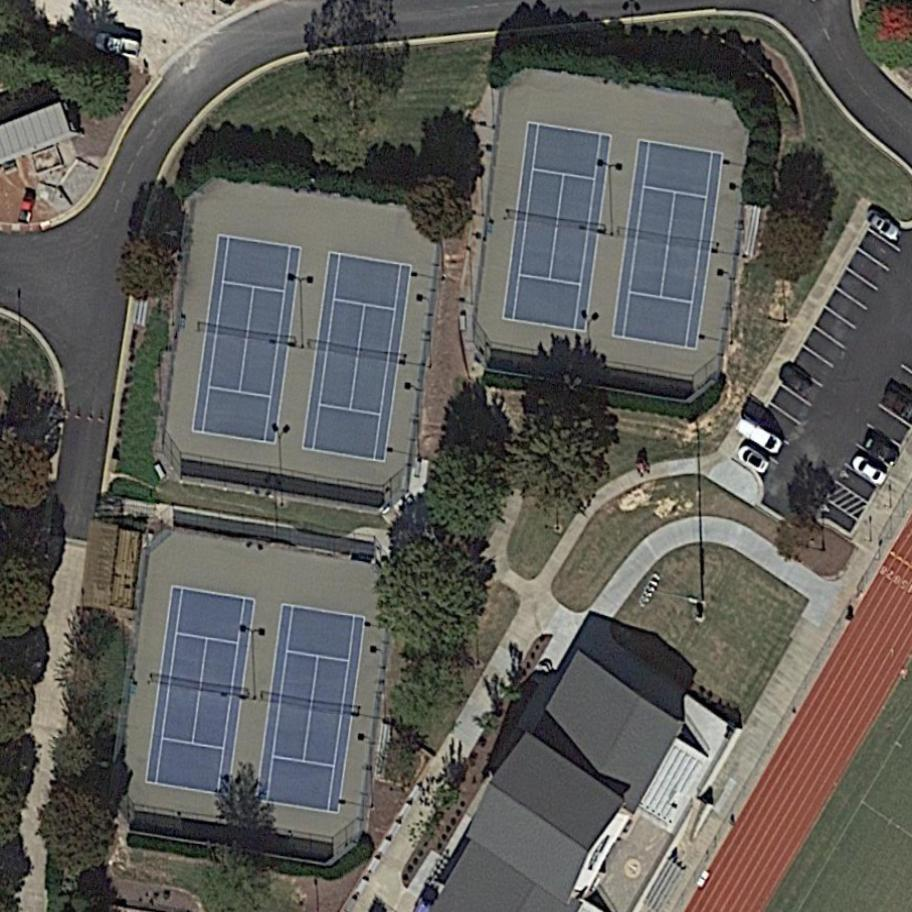large-vehicle: (731, 414, 791, 462)
small-vehicle: (863, 432, 905, 471), (775, 359, 816, 398), (863, 208, 906, 245), (92, 31, 144, 61), (849, 452, 891, 488), (735, 442, 773, 476), (16, 193, 37, 224), (694, 869, 713, 892)
